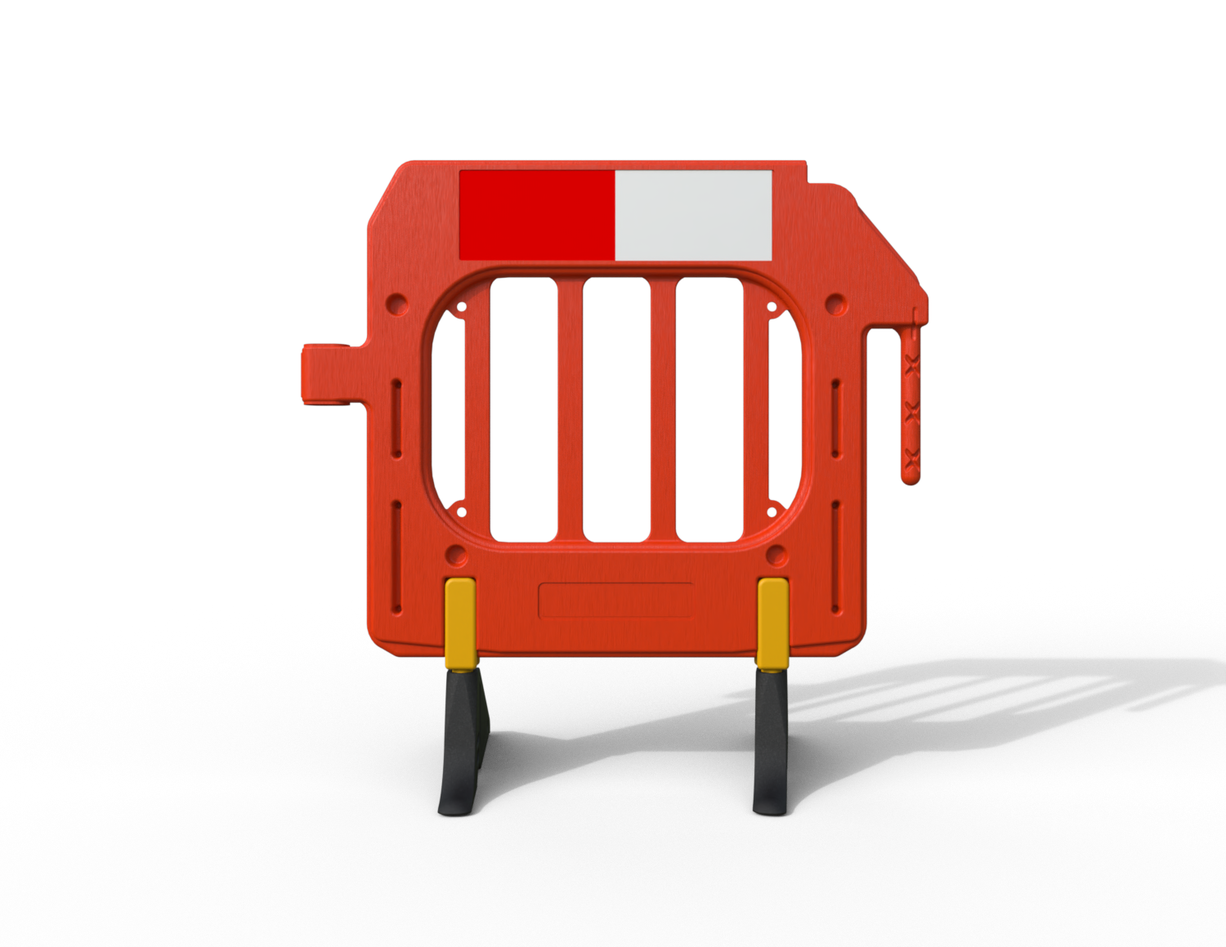Barrier: (232, 120, 941, 836)
